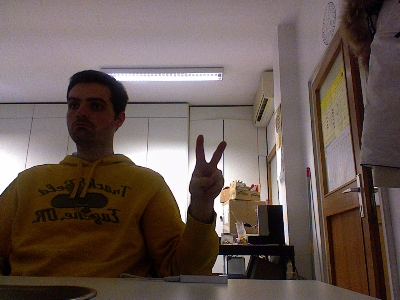剪刀: (187, 133, 227, 203)
